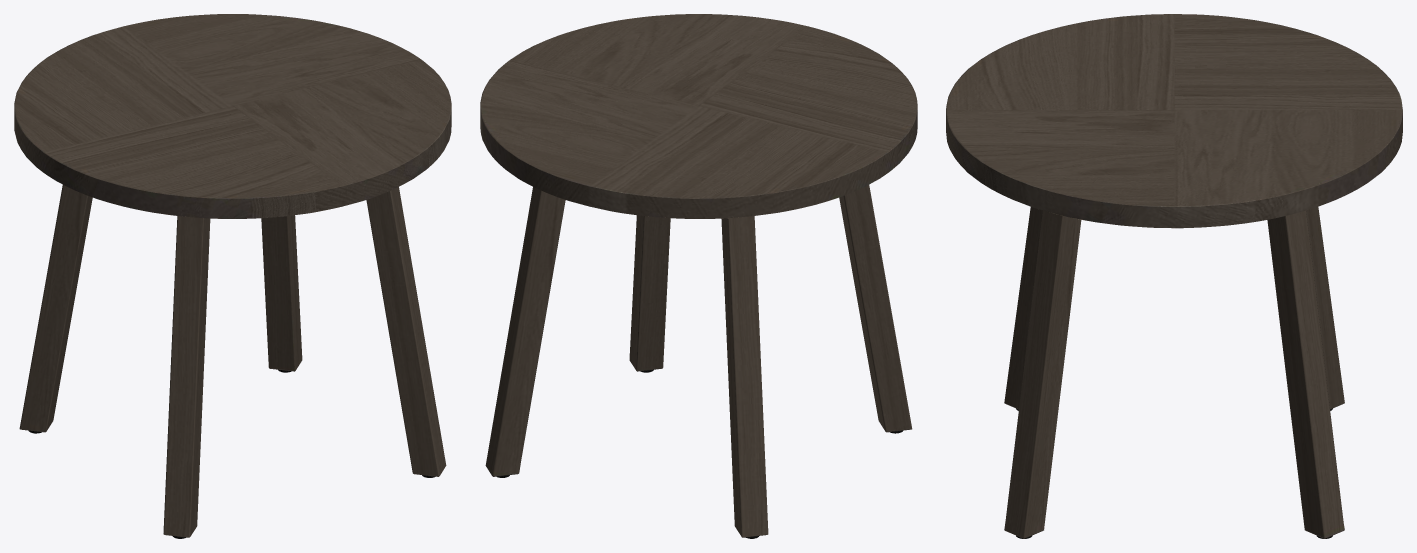
Rendered from LB-SIDETABLE-03.glb.
3 views of the same model, side by side, from view 1: azimuth 30°, elevation 25°; view 2: azimuth 150°, elevation 25°; view 3: azimuth 270°, elevation 25° (orthographic). The views are drawn at different scales.
Visible parts, largest first — view 1: ASY_ART_90586558_S01_NV01; view 2: ASY_ART_90586558_S01_NV01; view 3: ASY_ART_90586558_S01_NV01.
Boxes of the visible parts, x1=… form: ASY_ART_90586558_S01_NV01: x1=14, y1=14, x2=451, y2=538; ASY_ART_90586558_S01_NV01: x1=480, y1=14, x2=917, y2=538; ASY_ART_90586558_S01_NV01: x1=946, y1=14, x2=1402, y2=538.
Bounding box in the file's own units: 0.5501 × 0.4816 × 0.5501.
Materials: 1 (1 with a texture image).
